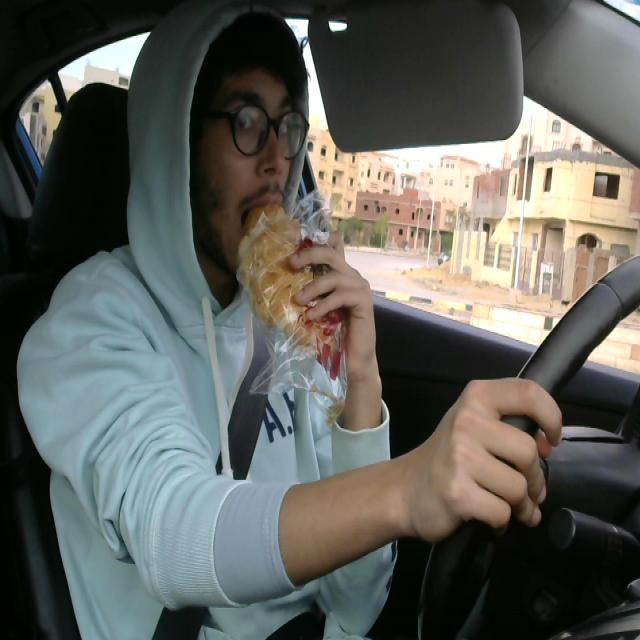eating: (236, 190, 349, 356)
